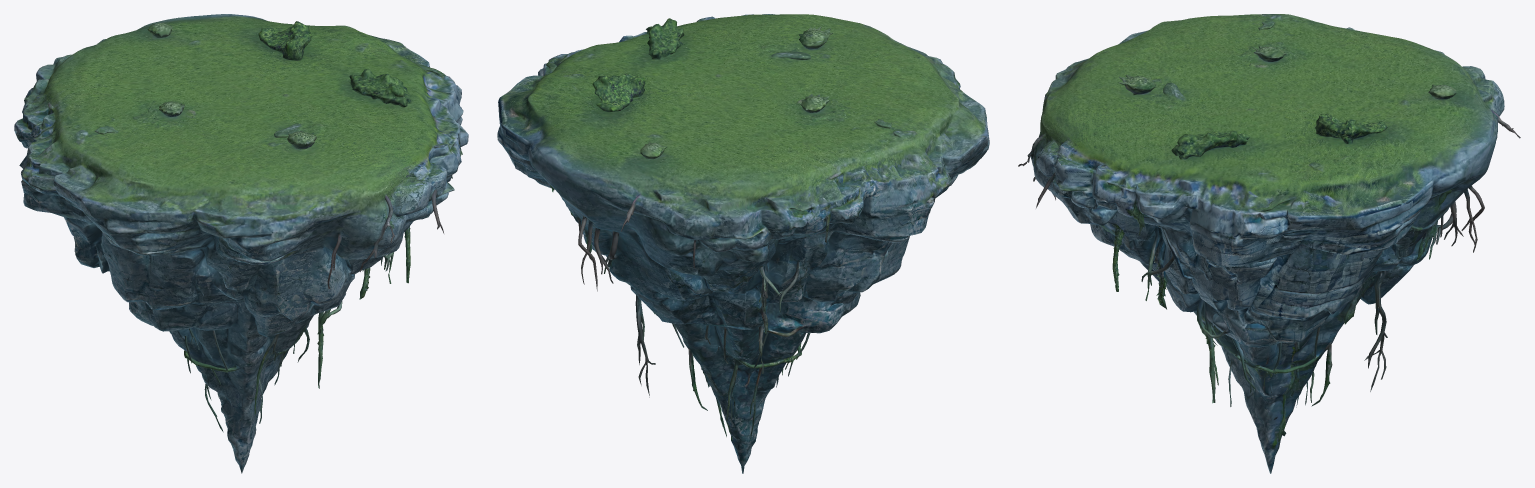
The model's file is floating_isle_a.glb.
3 views of the same model, side by side, from view 1: azimuth 30°, elevation 25°; view 2: azimuth 150°, elevation 25°; view 3: azimuth 270°, elevation 25° (orthographic).
Parts seen in each view (by area): view 1: tripo_node_59dca33b-a119-4b07-aabb-47cebeadebd3; view 2: tripo_node_59dca33b-a119-4b07-aabb-47cebeadebd3; view 3: tripo_node_59dca33b-a119-4b07-aabb-47cebeadebd3.
Part boxes in pixels (<box>): tripo_node_59dca33b-a119-4b07-aabb-47cebeadebd3: <box>14,14,468,473</box>; tripo_node_59dca33b-a119-4b07-aabb-47cebeadebd3: <box>497,14,989,473</box>; tripo_node_59dca33b-a119-4b07-aabb-47cebeadebd3: <box>1018,14,1520,473</box>.
Bounding box in the file's own units: 0.9691 × 0.882 × 1.
Materials: 1 (1 with a texture image).
